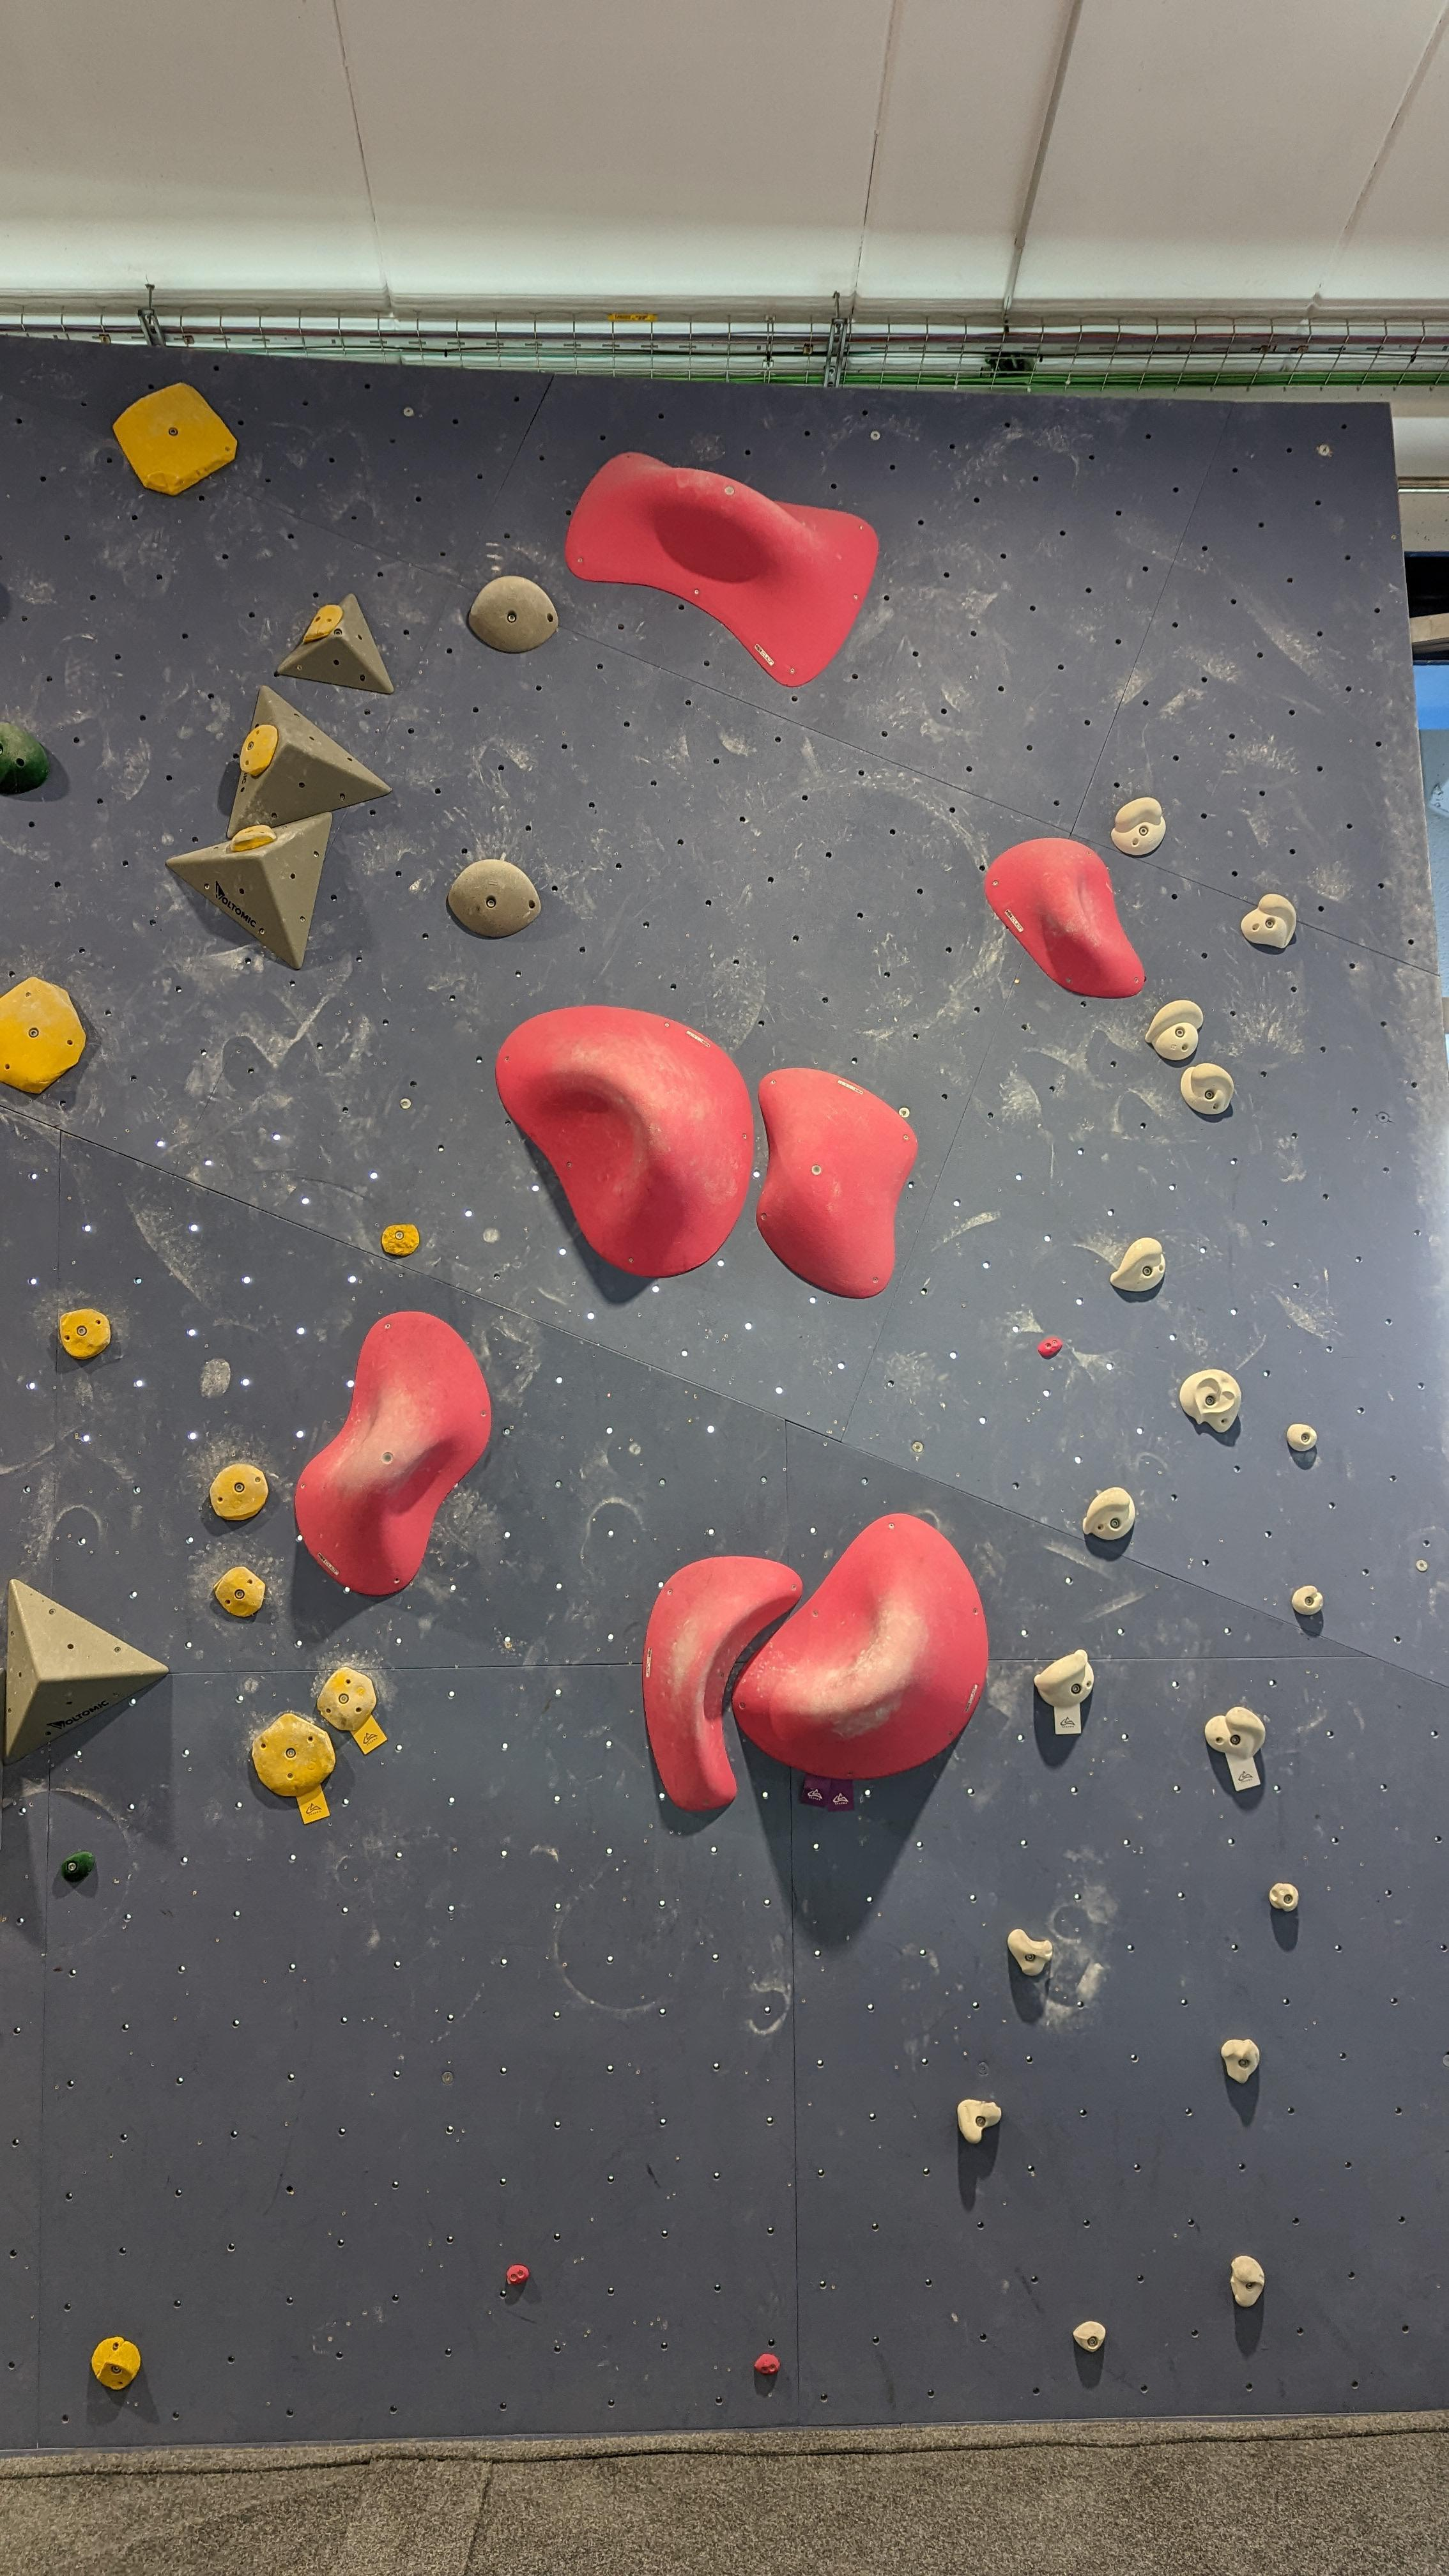hold: (564, 451, 879, 688), (495, 1005, 754, 1277), (731, 1513, 989, 1780), (294, 1311, 492, 1596), (642, 1555, 803, 1810), (755, 1069, 918, 1299), (985, 837, 1145, 998), (113, 382, 237, 497), (0, 977, 87, 1093), (448, 860, 541, 938), (467, 575, 559, 653), (253, 1713, 336, 1798), (1178, 1369, 1240, 1433), (317, 1667, 377, 1730), (1033, 1649, 1093, 1707), (1145, 1000, 1203, 1060), (0, 724, 50, 794), (209, 1463, 269, 1520), (1205, 1706, 1265, 1760), (1109, 1237, 1166, 1292), (1240, 893, 1297, 948), (1111, 798, 1166, 855), (1083, 1486, 1136, 1539), (1180, 1063, 1235, 1115), (92, 2335, 142, 2390), (214, 1566, 265, 1617), (60, 1307, 110, 1361), (1007, 1928, 1053, 1976), (957, 2098, 1001, 2144), (239, 724, 278, 775), (1221, 2038, 1260, 2084), (1231, 2254, 1265, 2307), (304, 603, 343, 642), (230, 824, 278, 851), (380, 1224, 419, 1256), (60, 1851, 94, 1882), (1074, 2321, 1106, 2353), (1292, 1585, 1323, 1615), (1269, 1882, 1299, 1913), (1286, 1424, 1316, 1451), (754, 2353, 780, 2376), (506, 2265, 531, 2286), (1039, 1336, 1063, 1357)
volume: (2, 1578, 170, 1766), (165, 812, 333, 970), (226, 686, 391, 839), (276, 593, 393, 694)
